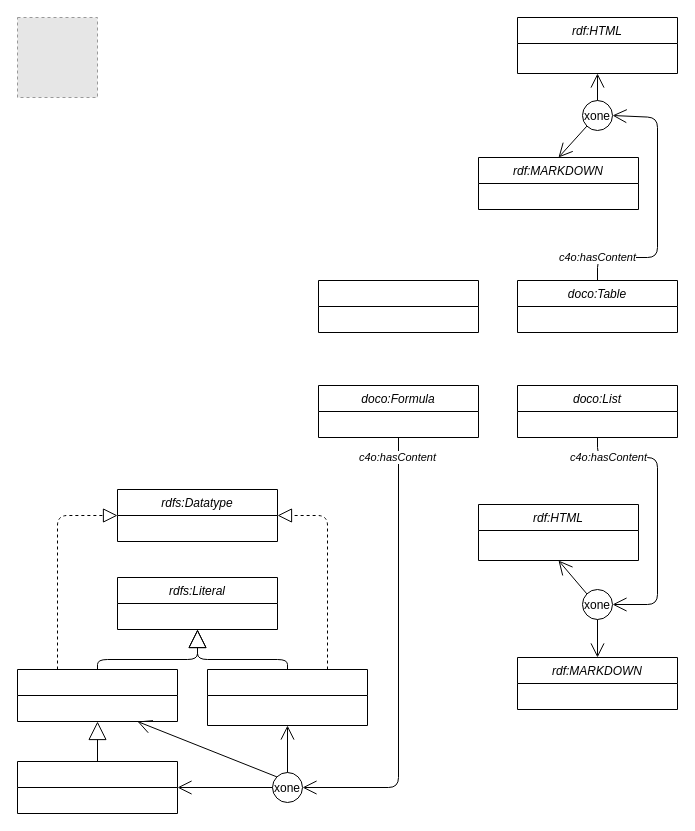
Image size: 695x831. Some labels were removed from this diagram. Grey dashed boxes stand in for pictures. The centre of each missing label's shape, as x and y in pixels:
doco:Figure: the point at 398,306
spec:ContentMathML: the point at 97,695
spec:Latex: the point at 287,697
spec:StrictContentMathML: the point at 97,787
